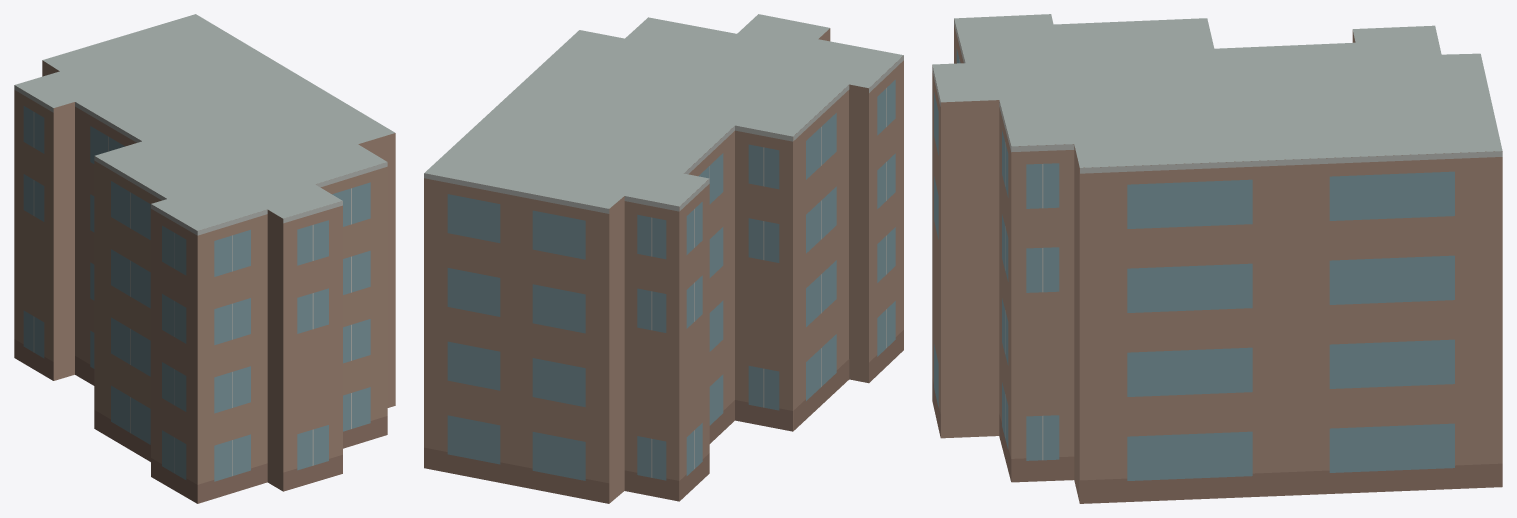
File: survey-upis-32677304.glb
3 views of the same model, side by side, from view 1: azimuth 30°, elevation 25°; view 2: azimuth 150°, elevation 25°; view 3: azimuth 270°, elevation 25° (orthographic). The views are drawn at different scales.
Visible parts, largest first — view 1: survey-upis-32677304.tmp; view 2: survey-upis-32677304.tmp; view 3: survey-upis-32677304.tmp.
Part boxes in pixels (box(x1,y1,x2,y2)): survey-upis-32677304.tmp: box(14, 14, 395, 503); survey-upis-32677304.tmp: box(424, 14, 903, 503); survey-upis-32677304.tmp: box(932, 14, 1502, 503).
Size of the model in its own units: 13.96 by 14.2 by 21.86.
